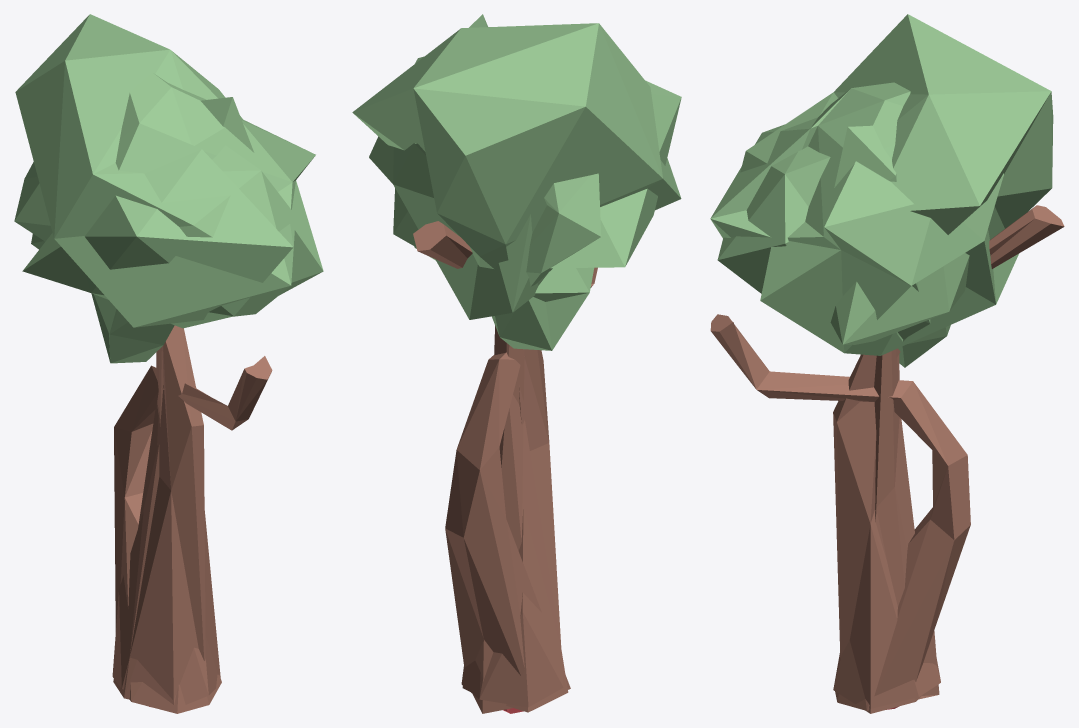
File: Trees.fbx
3 views of the same model, side by side, from view 1: azimuth 30°, elevation 25°; view 2: azimuth 150°, elevation 25°; view 3: azimuth 270°, elevation 25° (orthographic). The views are drawn at different scales.
Visible parts, largest first — view 1: Icosphere.007, Icosphere.006, Icosphere.004, Icosphere.002, Icosphere.005, Icosphere.003; view 2: Icosphere.007, Icosphere.002, Icosphere.006, Icosphere.004, Icosphere.005, Icosphere.003; view 3: Icosphere.007, Icosphere.006, Icosphere.002, Icosphere.004, Icosphere.003, Icosphere.005.
Part boxes in pixels (x1,y1,x2,y2): Icosphere.007: (15, 14, 295, 327); Icosphere.006: (22, 73, 323, 328); Icosphere.004: (112, 325, 220, 700); Icosphere.002: (114, 356, 272, 713); Icosphere.005: (14, 97, 254, 363); Icosphere.003: (113, 347, 217, 704); Icosphere.007: (352, 23, 681, 268); Icosphere.002: (445, 267, 597, 713); Icosphere.006: (369, 56, 681, 319); Icosphere.004: (413, 221, 563, 707); Icosphere.005: (414, 14, 601, 350); Icosphere.003: (462, 325, 568, 712); Icosphere.007: (717, 14, 1053, 344); Icosphere.006: (710, 82, 1018, 355); Icosphere.002: (710, 314, 970, 710); Icosphere.004: (833, 205, 1064, 708); Icosphere.003: (833, 349, 923, 713); Icosphere.005: (834, 125, 950, 367).
Size of the model in its own units: 1084 by 2730 by 1348.
